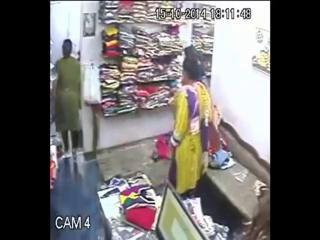Normal: (167, 44, 217, 196), (53, 39, 83, 153)
